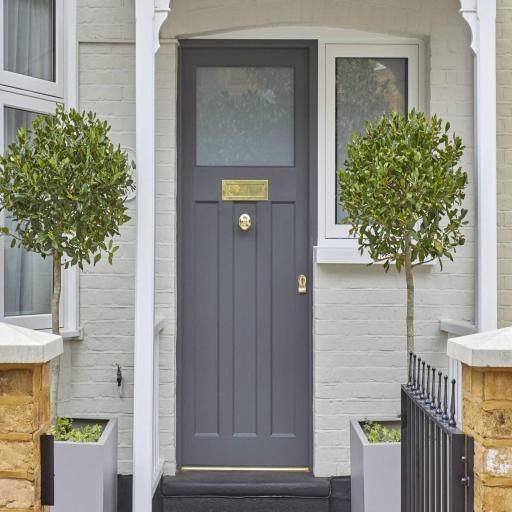door: (164, 39, 320, 505)
